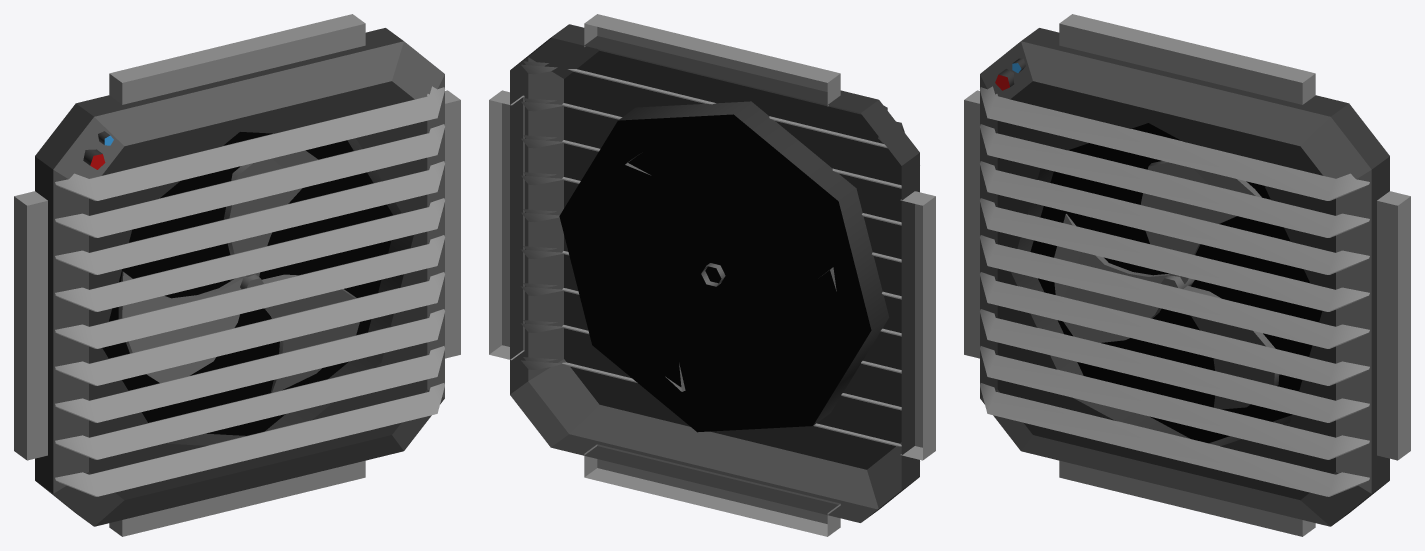
Rendered from Wall_Vent.fbx.
3 views of the same model, side by side, from view 1: azimuth 30°, elevation 25°; view 2: azimuth 150°, elevation 25°; view 3: azimuth 330°, elevation 25° (orthographic).
Parts seen in each view (by area): view 1: Wall_Vent, Wall_Vent_Fan; view 2: Wall_Vent; view 3: Wall_Vent, Wall_Vent_Fan.
Part boxes in pixels (x1,y1,x2,y2): Wall_Vent: (14, 14, 460, 536); Wall_Vent_Fan: (118, 150, 359, 392); Wall_Vent: (489, 14, 935, 536); Wall_Vent: (964, 14, 1410, 536); Wall_Vent_Fan: (1054, 161, 1279, 409).
Bounding box in the file's own units: 127 × 127 × 18.72.
